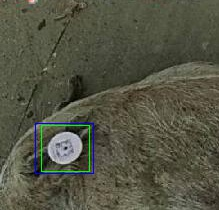text: (41, 125, 89, 171)
